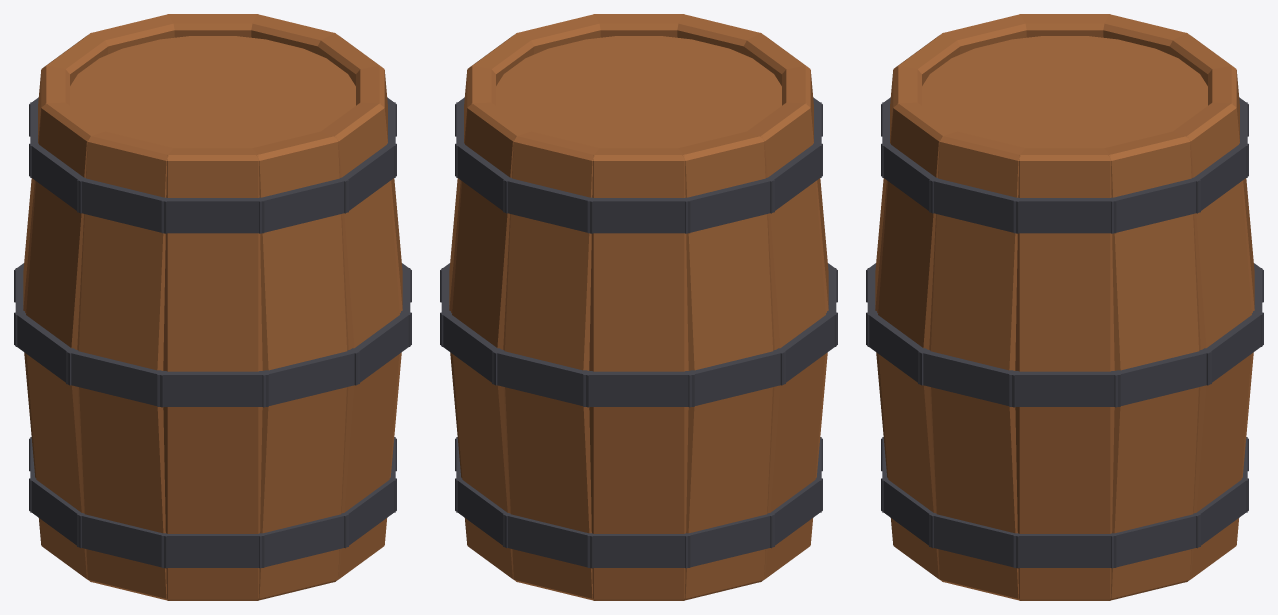
File: Barrel.fbx
3 views of the same model, side by side, from view 1: azimuth 30°, elevation 25°; view 2: azimuth 150°, elevation 25°; view 3: azimuth 270°, elevation 25° (orthographic).
Visible parts, largest first — view 1: Barrel, Hoop; view 2: Barrel, Hoop; view 3: Barrel, Hoop.
Boxes of the visible parts, box(x1,y1,x2,y2) form: Barrel: box(23, 14, 402, 600); Hoop: box(14, 97, 411, 568); Barrel: box(449, 14, 828, 600); Hoop: box(440, 97, 837, 568); Barrel: box(875, 14, 1254, 600); Hoop: box(866, 97, 1263, 568).
Bounding box in the file's own units: 2.48 × 3.06 × 2.48.
